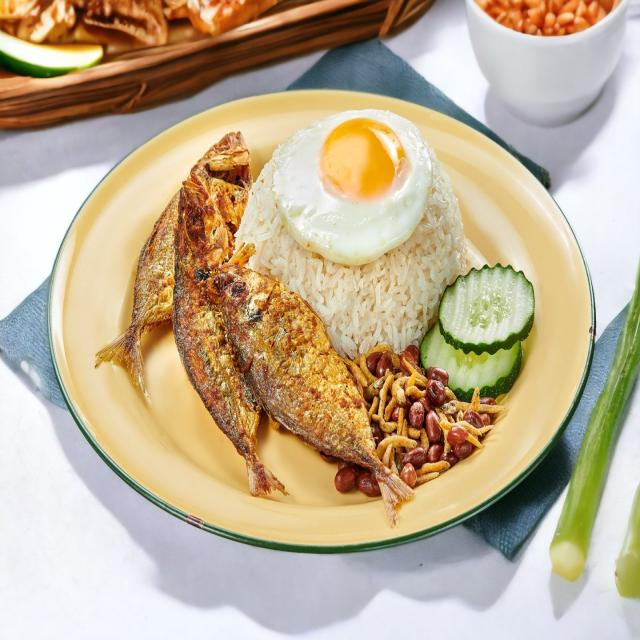Egg: (269, 110, 434, 264)
Fish: (96, 133, 412, 519)
Green veg: (550, 262, 640, 580), (420, 264, 535, 400), (616, 485, 640, 597)
Rice: (236, 150, 484, 359)
